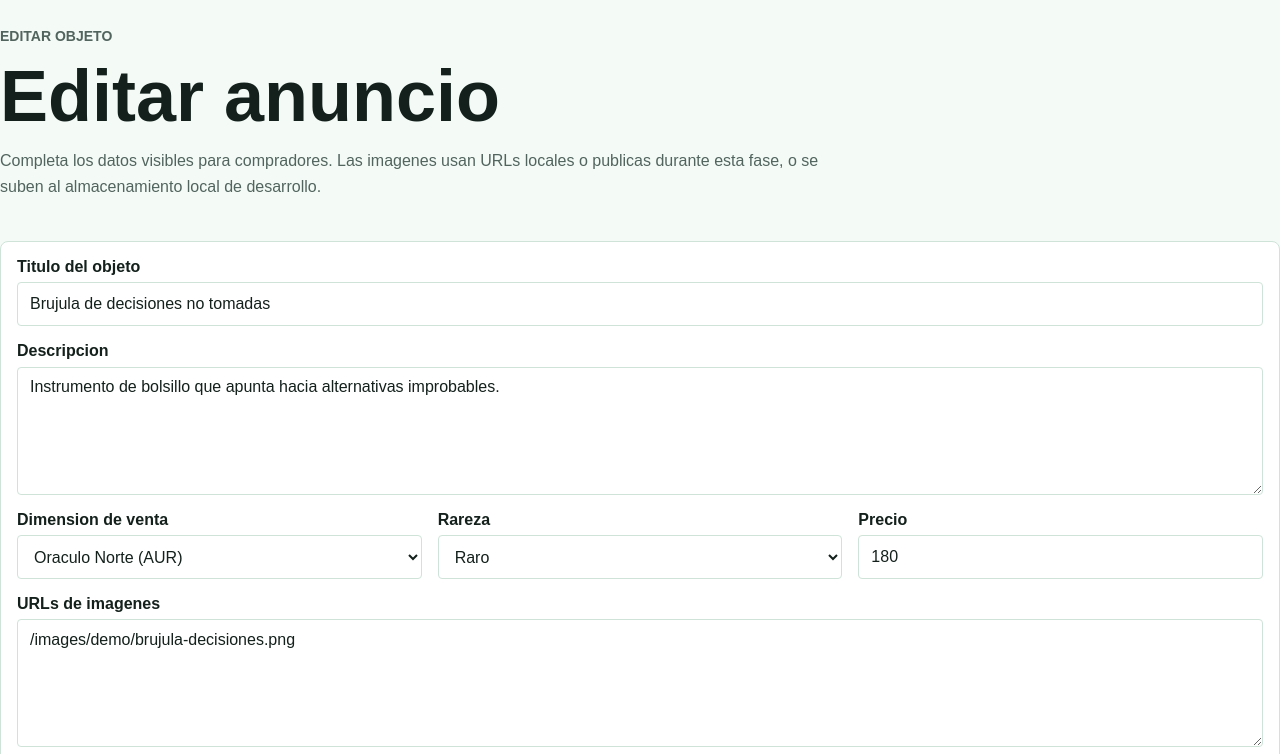
ListingForm › updates a listing owned by the authenticated user
Replace the text in the field labelled "Titulo del objeto" with "Brujula afinada de decisiones no tomadas" at (640, 304), box x1=17 y1=282 x2=1263 y2=326
(page scrolled)
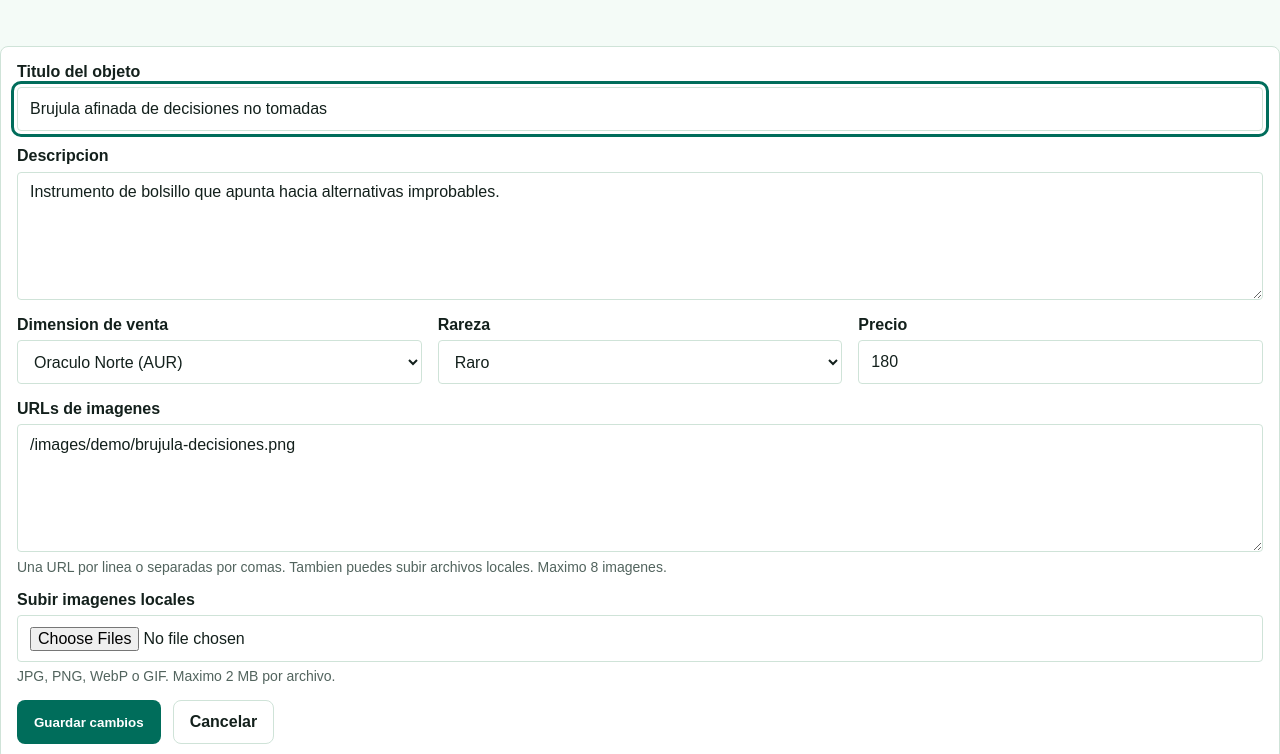
Click the button "Guardar cambios" at (89, 722), box x1=17 y1=700 x2=161 y2=744
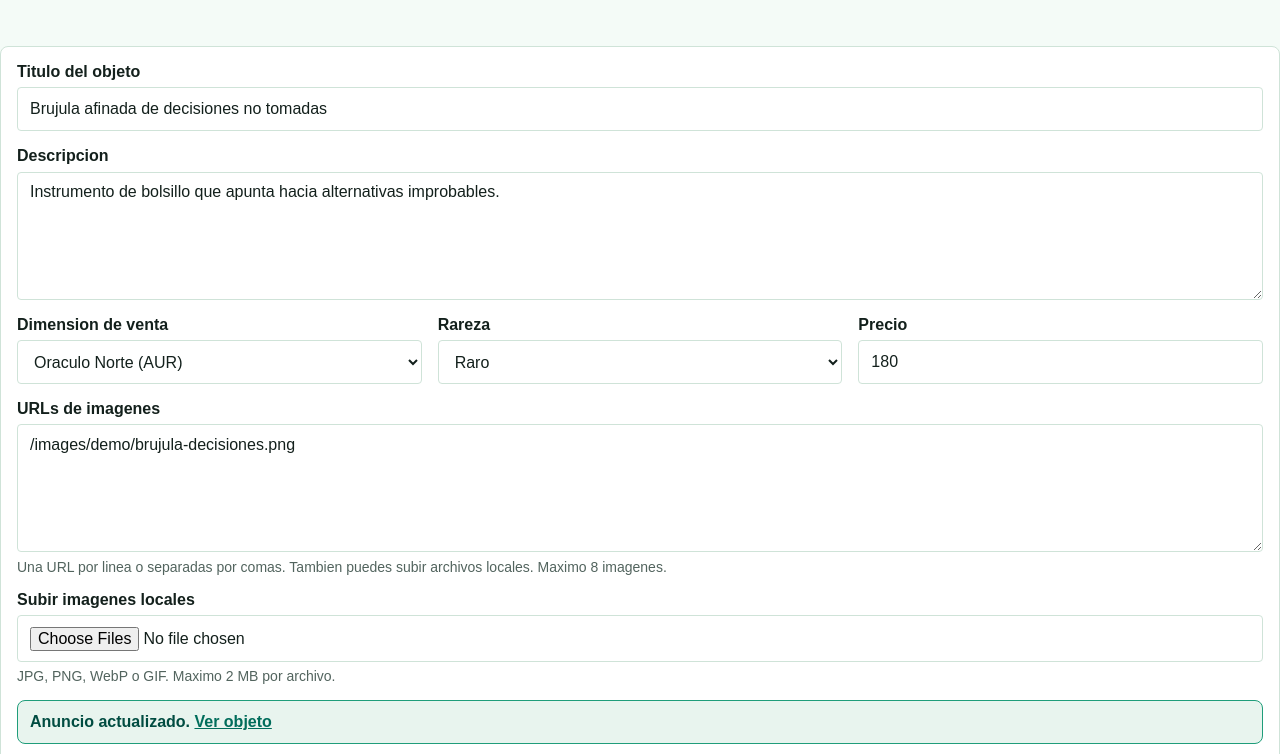
Check: the text "Anuncio actualizado." is shown, box x1=30 y1=713 x2=190 y2=730
